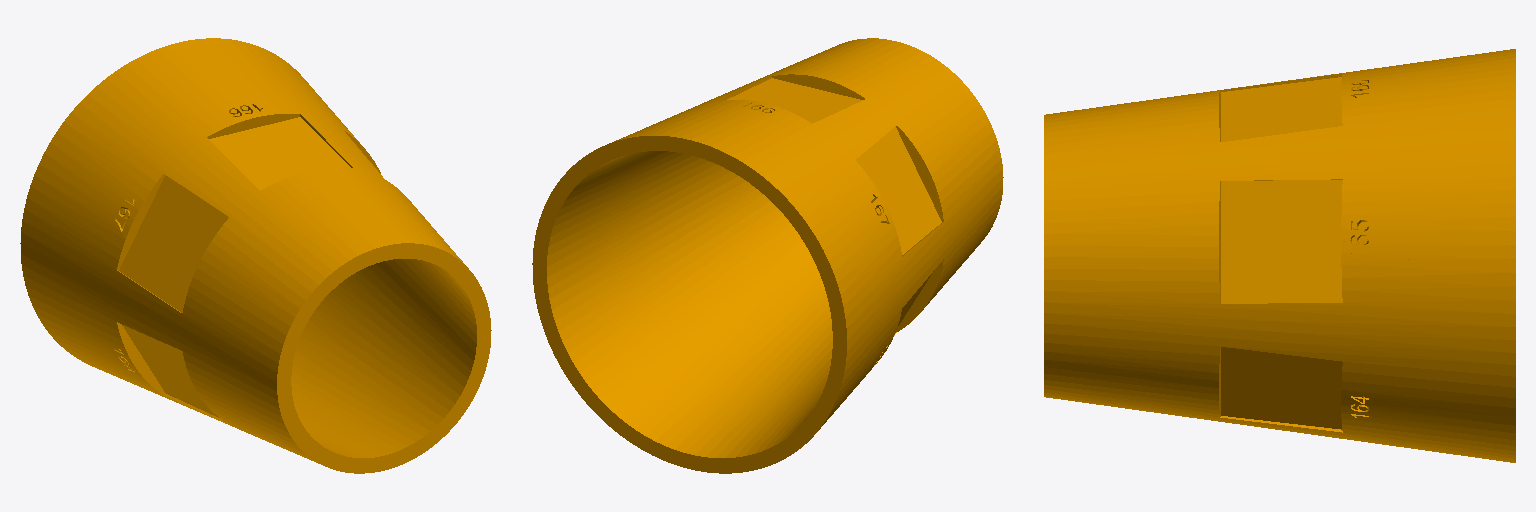
robot.urdf — lamp_hood:
<?xml version="1.0"?>
<robot name="lamp_hood">
    <link name="lamp_hood">
        <visual>
            <geometry>
                <mesh filename="../mesh/lamp/lamp_hood.obj" scale="1 1 1"/>
            </geometry>
        </visual>
        <collision>
            <geometry>
                <mesh filename="../mesh/lamp/lamp_hood.obj" scale="1 1 1"/>
            </geometry>
            <sdf resolution="512"/>
        </collision>
    </link>
</robot>

--- Render facts (derived) ---
The picture shows the robot from 3 angles, left to right: view 1: azimuth 30°, elevation 25°; view 2: azimuth 150°, elevation 25°; view 3: azimuth 270°, elevation 25°; orthographic projection.
Model lamp_hood with 1 links and 0 joints (none), rooted at lamp_hood, posed all joints at 0.
Links seen in each view (by area): view 1: lamp_hood; view 2: lamp_hood; view 3: lamp_hood.
Link boxes in pixels (bbox=[...]): lamp_hood: bbox=[20, 38, 491, 473]; lamp_hood: bbox=[532, 38, 1003, 473]; lamp_hood: bbox=[1044, 49, 1515, 462].
Bounding box of the posed robot: 0.088 × 0.1 × 0.088 m (x, y, z).
Meshes: 1 distinct files referenced, 1 mesh visuals loaded (1 OBJ).